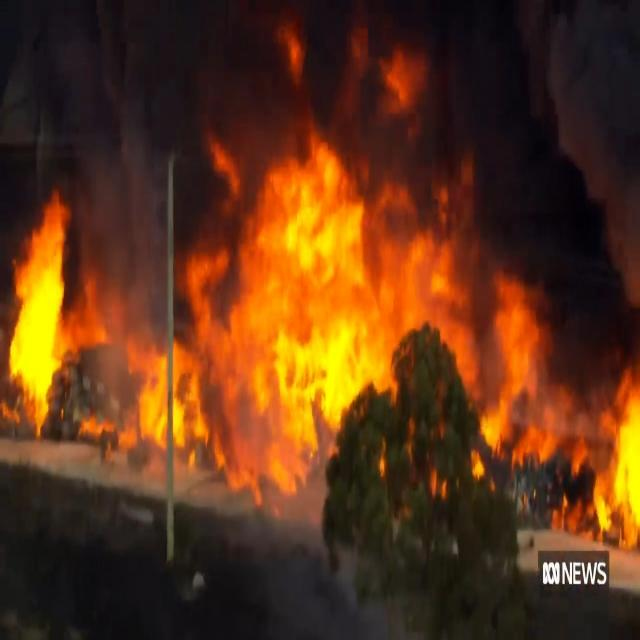fire: (7, 15, 577, 505), (600, 373, 640, 552)
